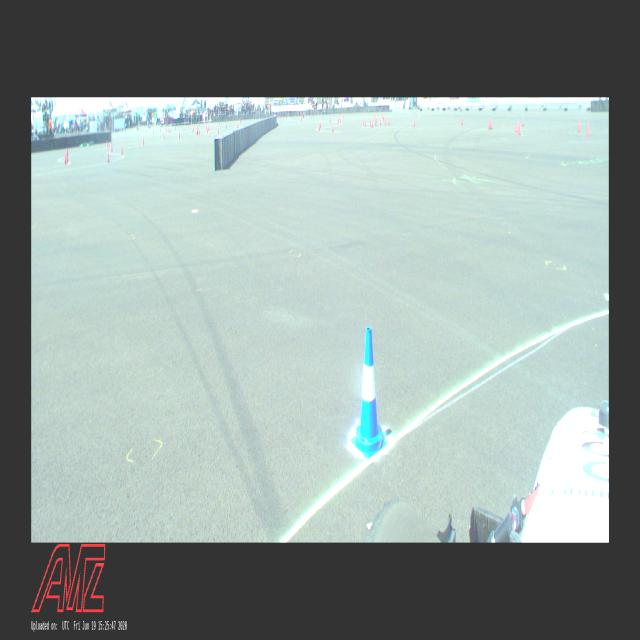blue_cone: (351, 328, 386, 458)
unknown_cone: (488, 118, 491, 128), (586, 122, 588, 136), (66, 148, 68, 162), (578, 120, 580, 132), (518, 122, 520, 134), (516, 120, 518, 132), (369, 118, 372, 126), (319, 121, 322, 129), (107, 150, 109, 162), (64, 153, 66, 164), (522, 116, 524, 126), (490, 118, 492, 128), (120, 144, 122, 154), (388, 116, 390, 125), (337, 116, 339, 125), (339, 117, 342, 123), (332, 123, 334, 132), (106, 140, 108, 148), (142, 138, 144, 146), (462, 117, 464, 125), (413, 118, 415, 126), (384, 118, 386, 126), (374, 118, 376, 126), (371, 119, 373, 127), (318, 122, 320, 130), (110, 144, 112, 152), (163, 133, 165, 140), (178, 132, 180, 138), (364, 120, 366, 126), (329, 116, 331, 122), (363, 118, 364, 126), (380, 118, 381, 125), (218, 128, 218, 134)
